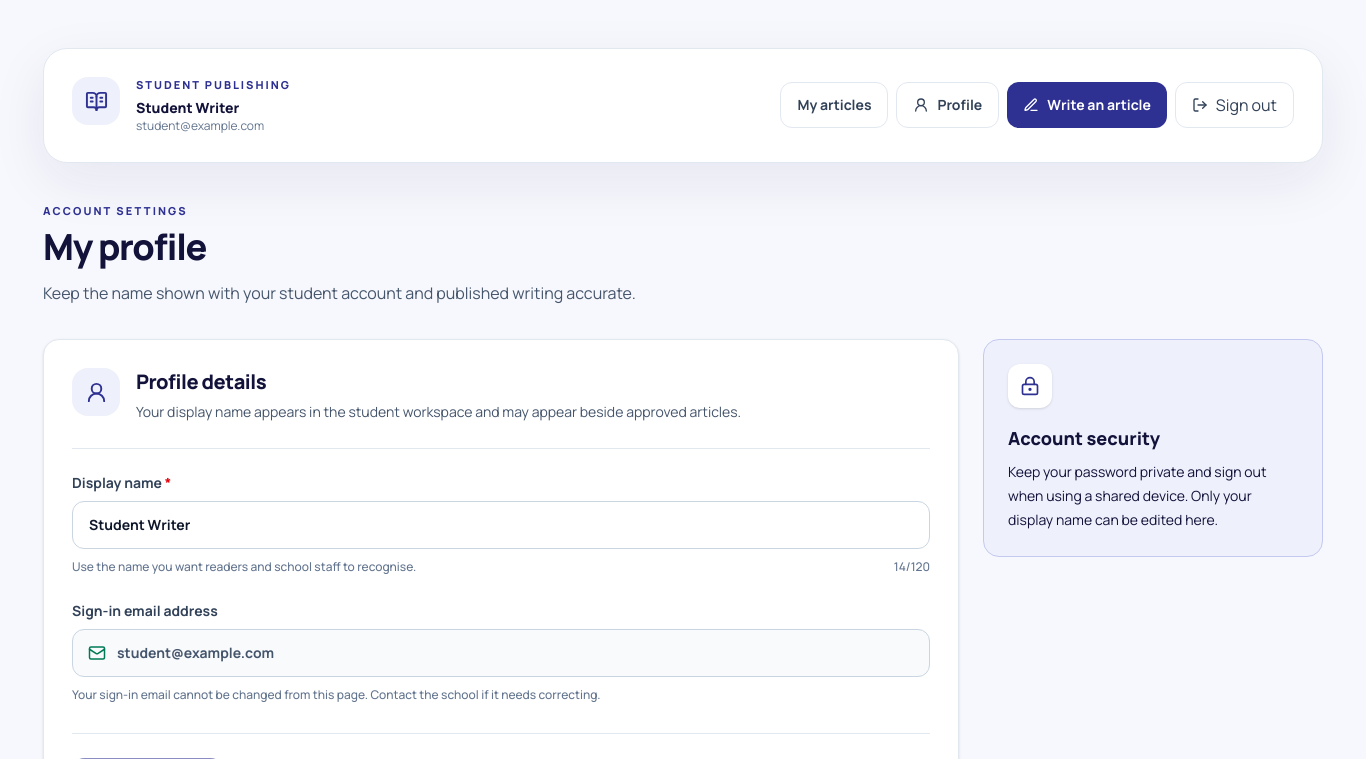
Test: student profile and workspace › updates the canonical account name and stored student profile
The width and height of the screenshot is (1366, 759).
Replace the text in the field labelled "Display name" with "  Aarav   Shah  " at (501, 525), box [72,501,930,549]
(page scrolled)
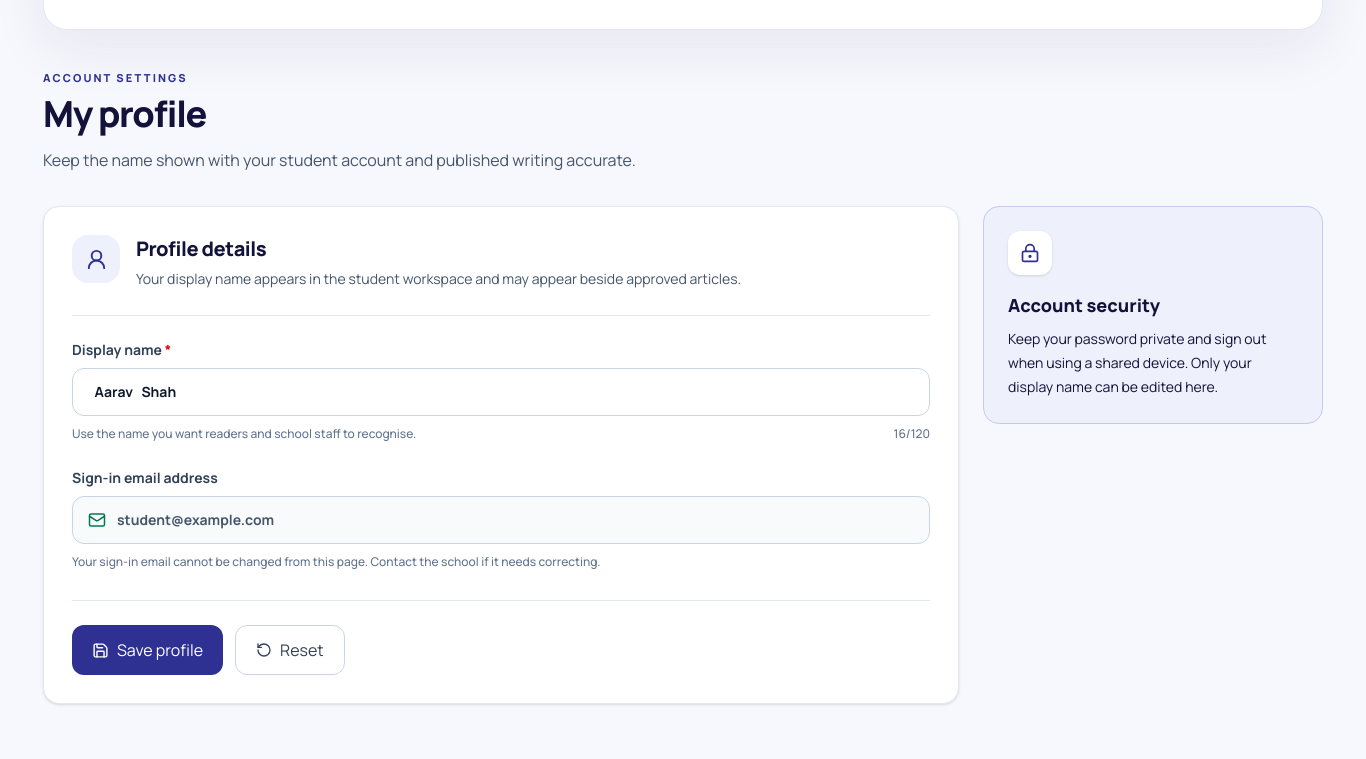
Click the button "Save profile".
click(148, 650)  # box [72,625,223,675]
(page scrolled)
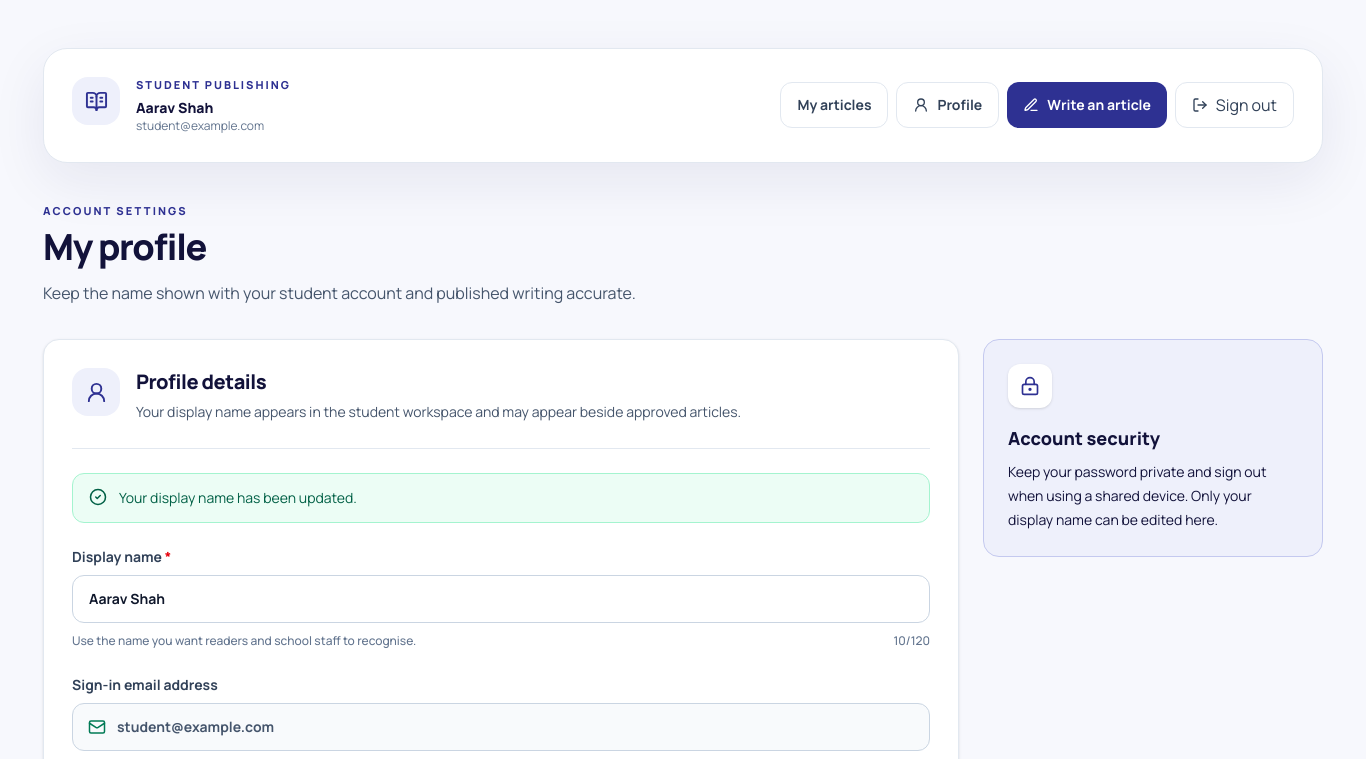
Expected: the message shows "display name has been updated", [119,488,357,507]
Expected: the text "Aarav Shah" is shown, [136,98,213,116]
